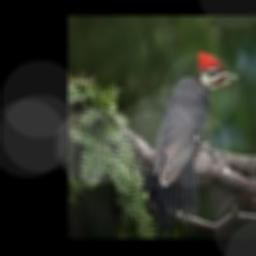Woodpecker: (143, 49, 243, 238)
